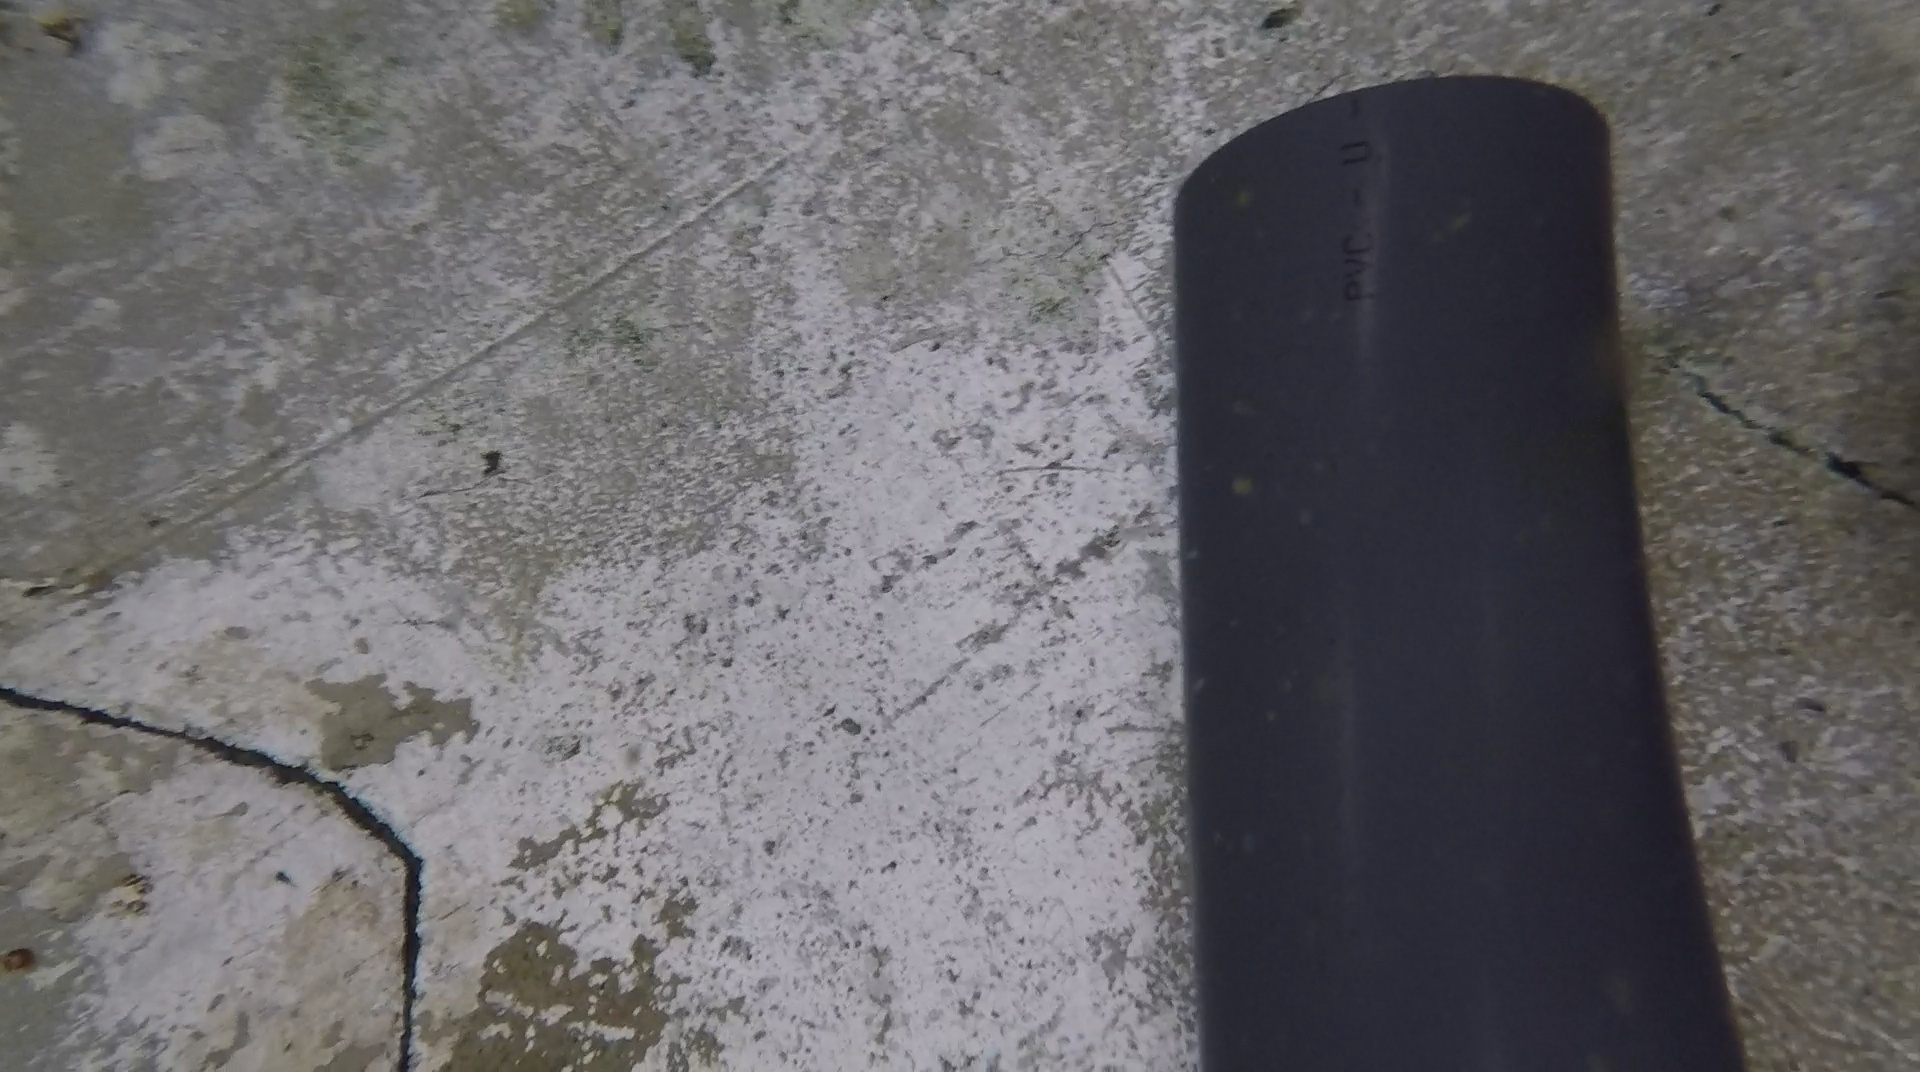pipe: (1174, 75, 1751, 1072)
